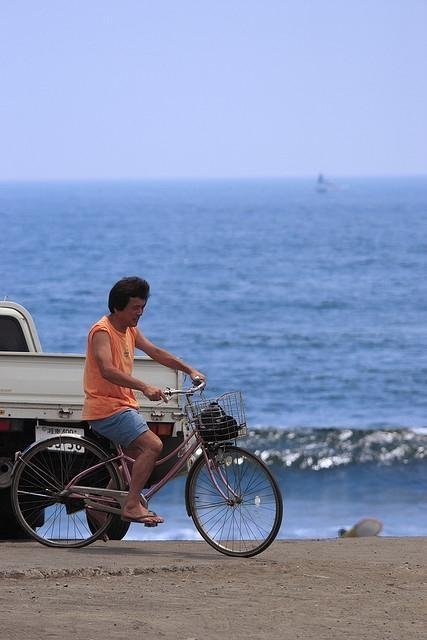bicycle: (11, 379, 280, 559)
truck: (0, 296, 182, 544)
